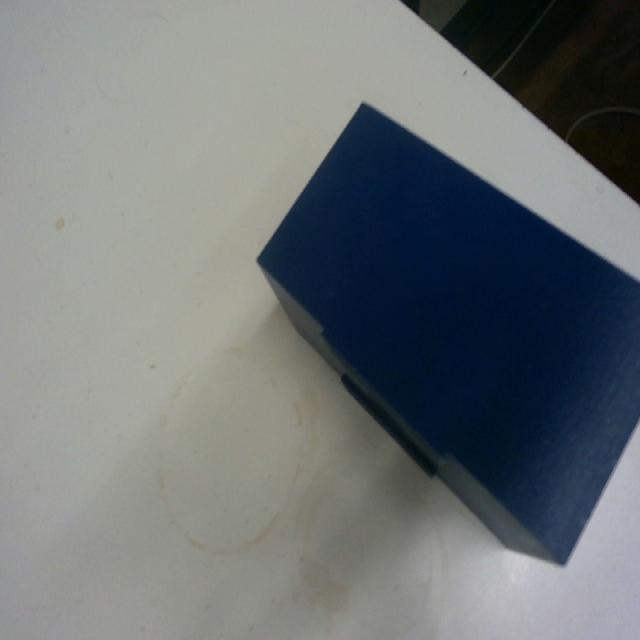Blue Cuboid: (254, 97, 639, 567)
